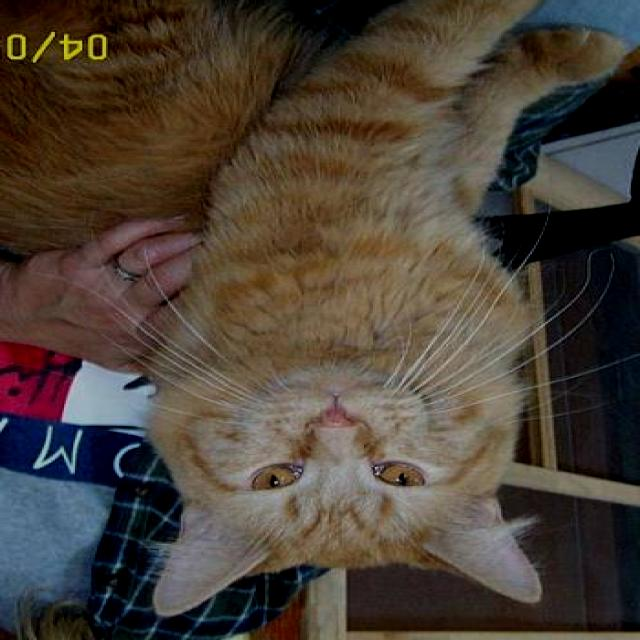Kucing: (43, 94, 571, 640)
